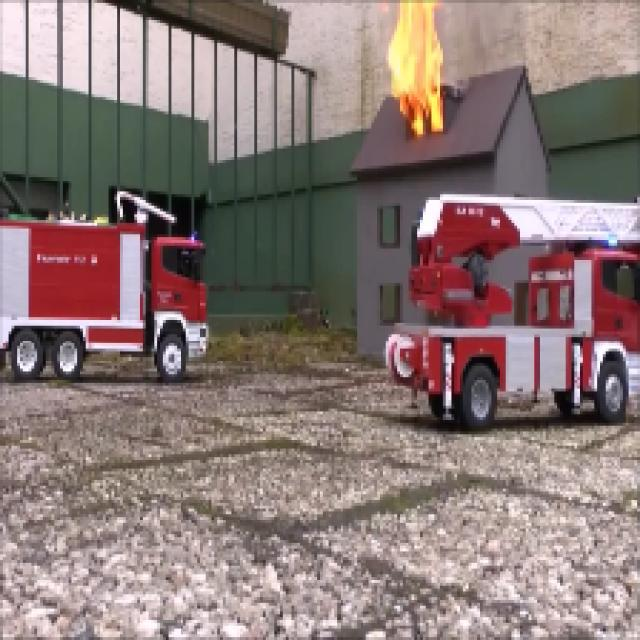fire: (381, 1, 454, 140)
